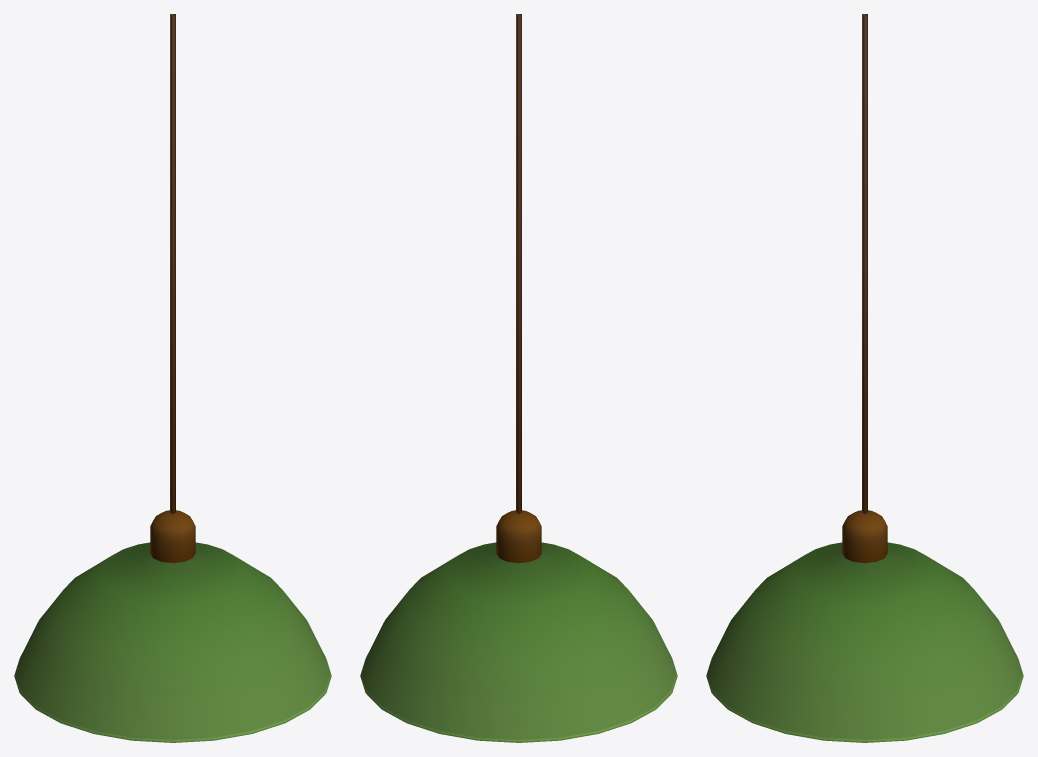
The model's file is jia_deng.FBX.
3 views of the same model, side by side, from view 1: azimuth 30°, elevation 25°; view 2: azimuth 150°, elevation 25°; view 3: azimuth 270°, elevation 25° (orthographic).
Parts seen in each view (by area): view 1: jia_deng; view 2: jia_deng; view 3: jia_deng.
Boxes of the visible parts, x1,y1,x2,y2 form: jia_deng: [14, 14, 331, 742]; jia_deng: [360, 14, 677, 742]; jia_deng: [706, 14, 1023, 742].
Size of the model in its own units: 140 by 326 by 140.
